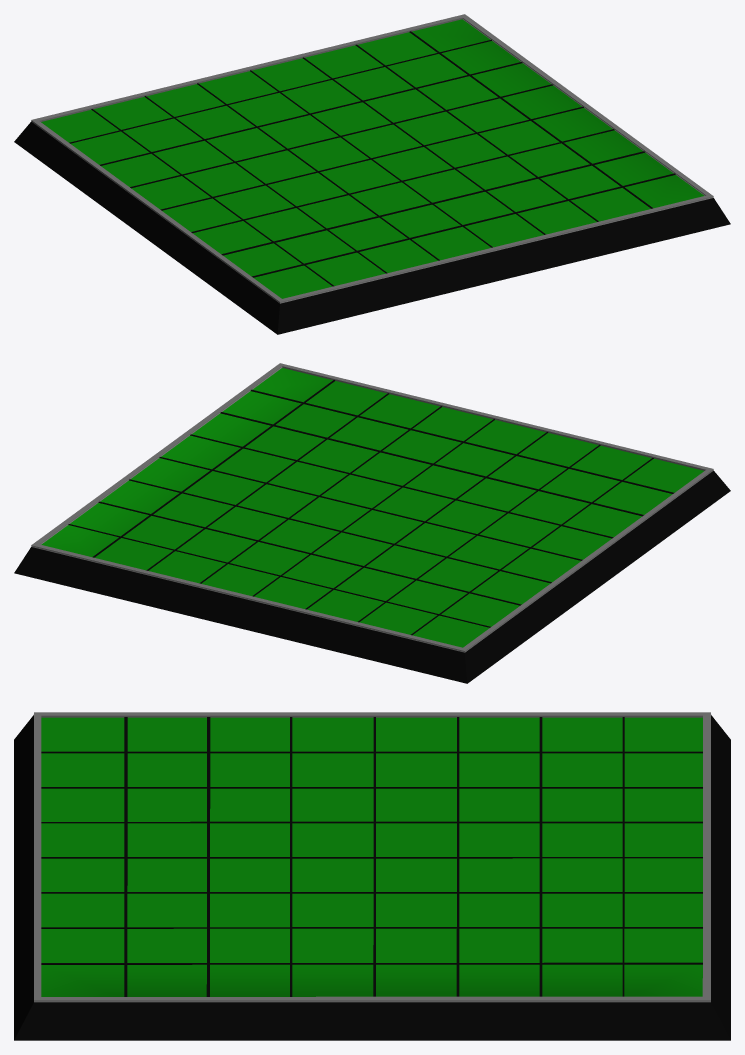
File: Othello board C.fbx
The picture shows the model from 3 angles, top to bottom: view 1: azimuth 30°, elevation 25°; view 2: azimuth 150°, elevation 25°; view 3: azimuth 270°, elevation 25°; orthographic projection. The views are drawn at different scales.
Parts seen in each view (by area): view 1: pCube1; view 2: pCube1; view 3: pCube1.
Part boxes in pixels (bbox=[...]): pCube1: bbox=[14, 14, 730, 334]; pCube1: bbox=[14, 363, 730, 683]; pCube1: bbox=[14, 712, 730, 1040].
Bounding box in the file's own units: 8.76 × 0.461 × 8.82.
